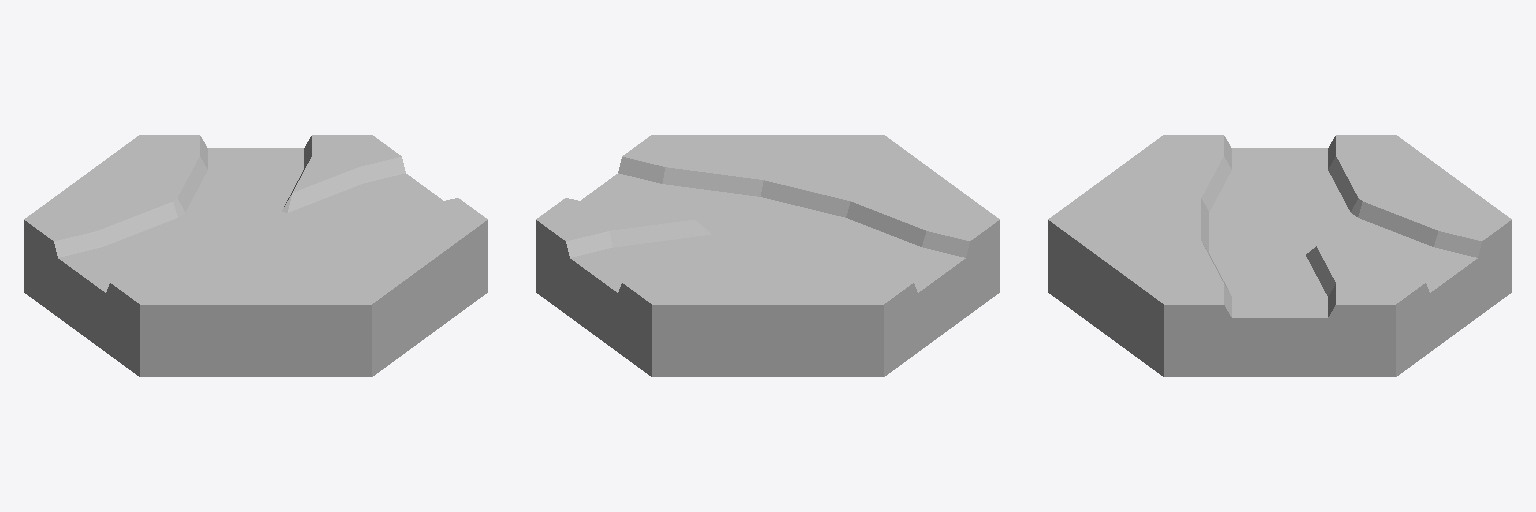
File: river_intersectionB.obj
3 views of the same model, side by side, from view 1: azimuth 30°, elevation 25°; view 2: azimuth 150°, elevation 25°; view 3: azimuth 270°, elevation 25° (orthographic).
Visible parts, largest first — view 1: river_intersectionB; view 2: river_intersectionB; view 3: river_intersectionB.
Part boxes in pixels (x1,y1,x2,y2): river_intersectionB: (24, 135, 487, 376); river_intersectionB: (536, 135, 999, 376); river_intersectionB: (1048, 135, 1511, 376).
Size of the model in its own units: 1 by 0.2 by 1.15.